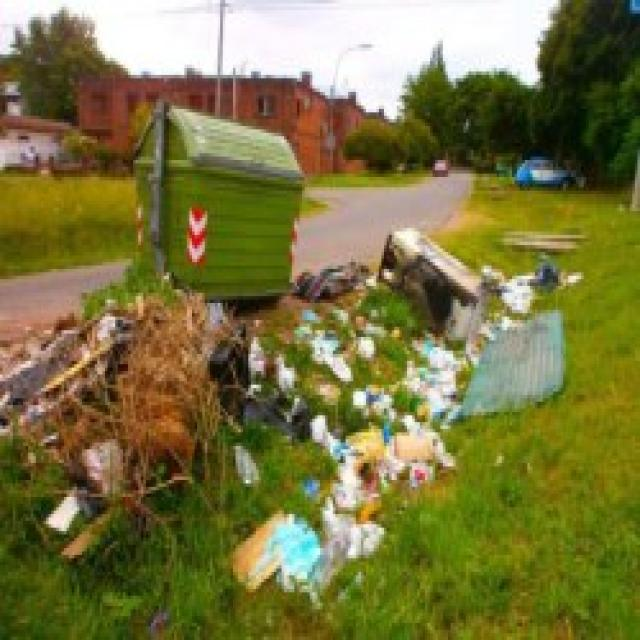garbage: (292, 300, 461, 436), (220, 490, 382, 599), (308, 426, 461, 491), (473, 252, 571, 317)
